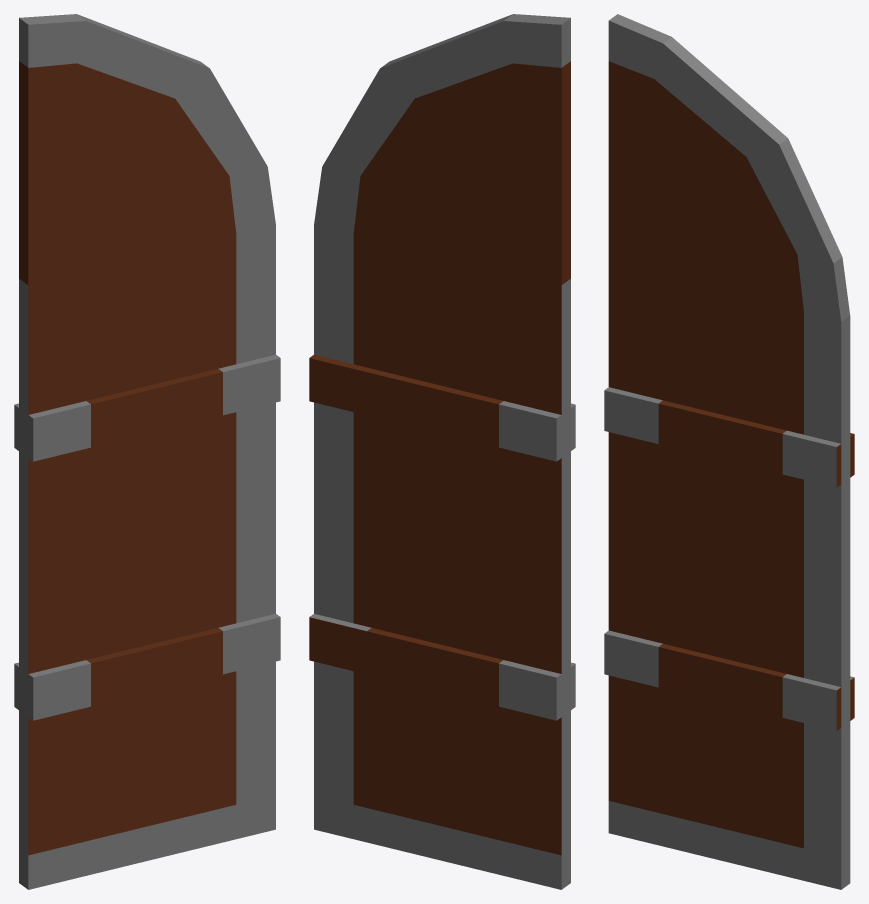
File: door.fbx
The picture shows the model from 3 angles, left to right: view 1: azimuth 30°, elevation 25°; view 2: azimuth 150°, elevation 25°; view 3: azimuth 330°, elevation 25°; orthographic projection. The views are drawn at different scales.
Parts seen in each view (by area): view 1: Door.002; view 2: Door.002; view 3: Door.002.
Part boxes in pixels (x1,y1,x2,y2): Door.002: (14,14,280,889); Door.002: (309,14,575,889); Door.002: (604,14,854,889).
Size of the model in its own units: 300 by 1002 by 40.
